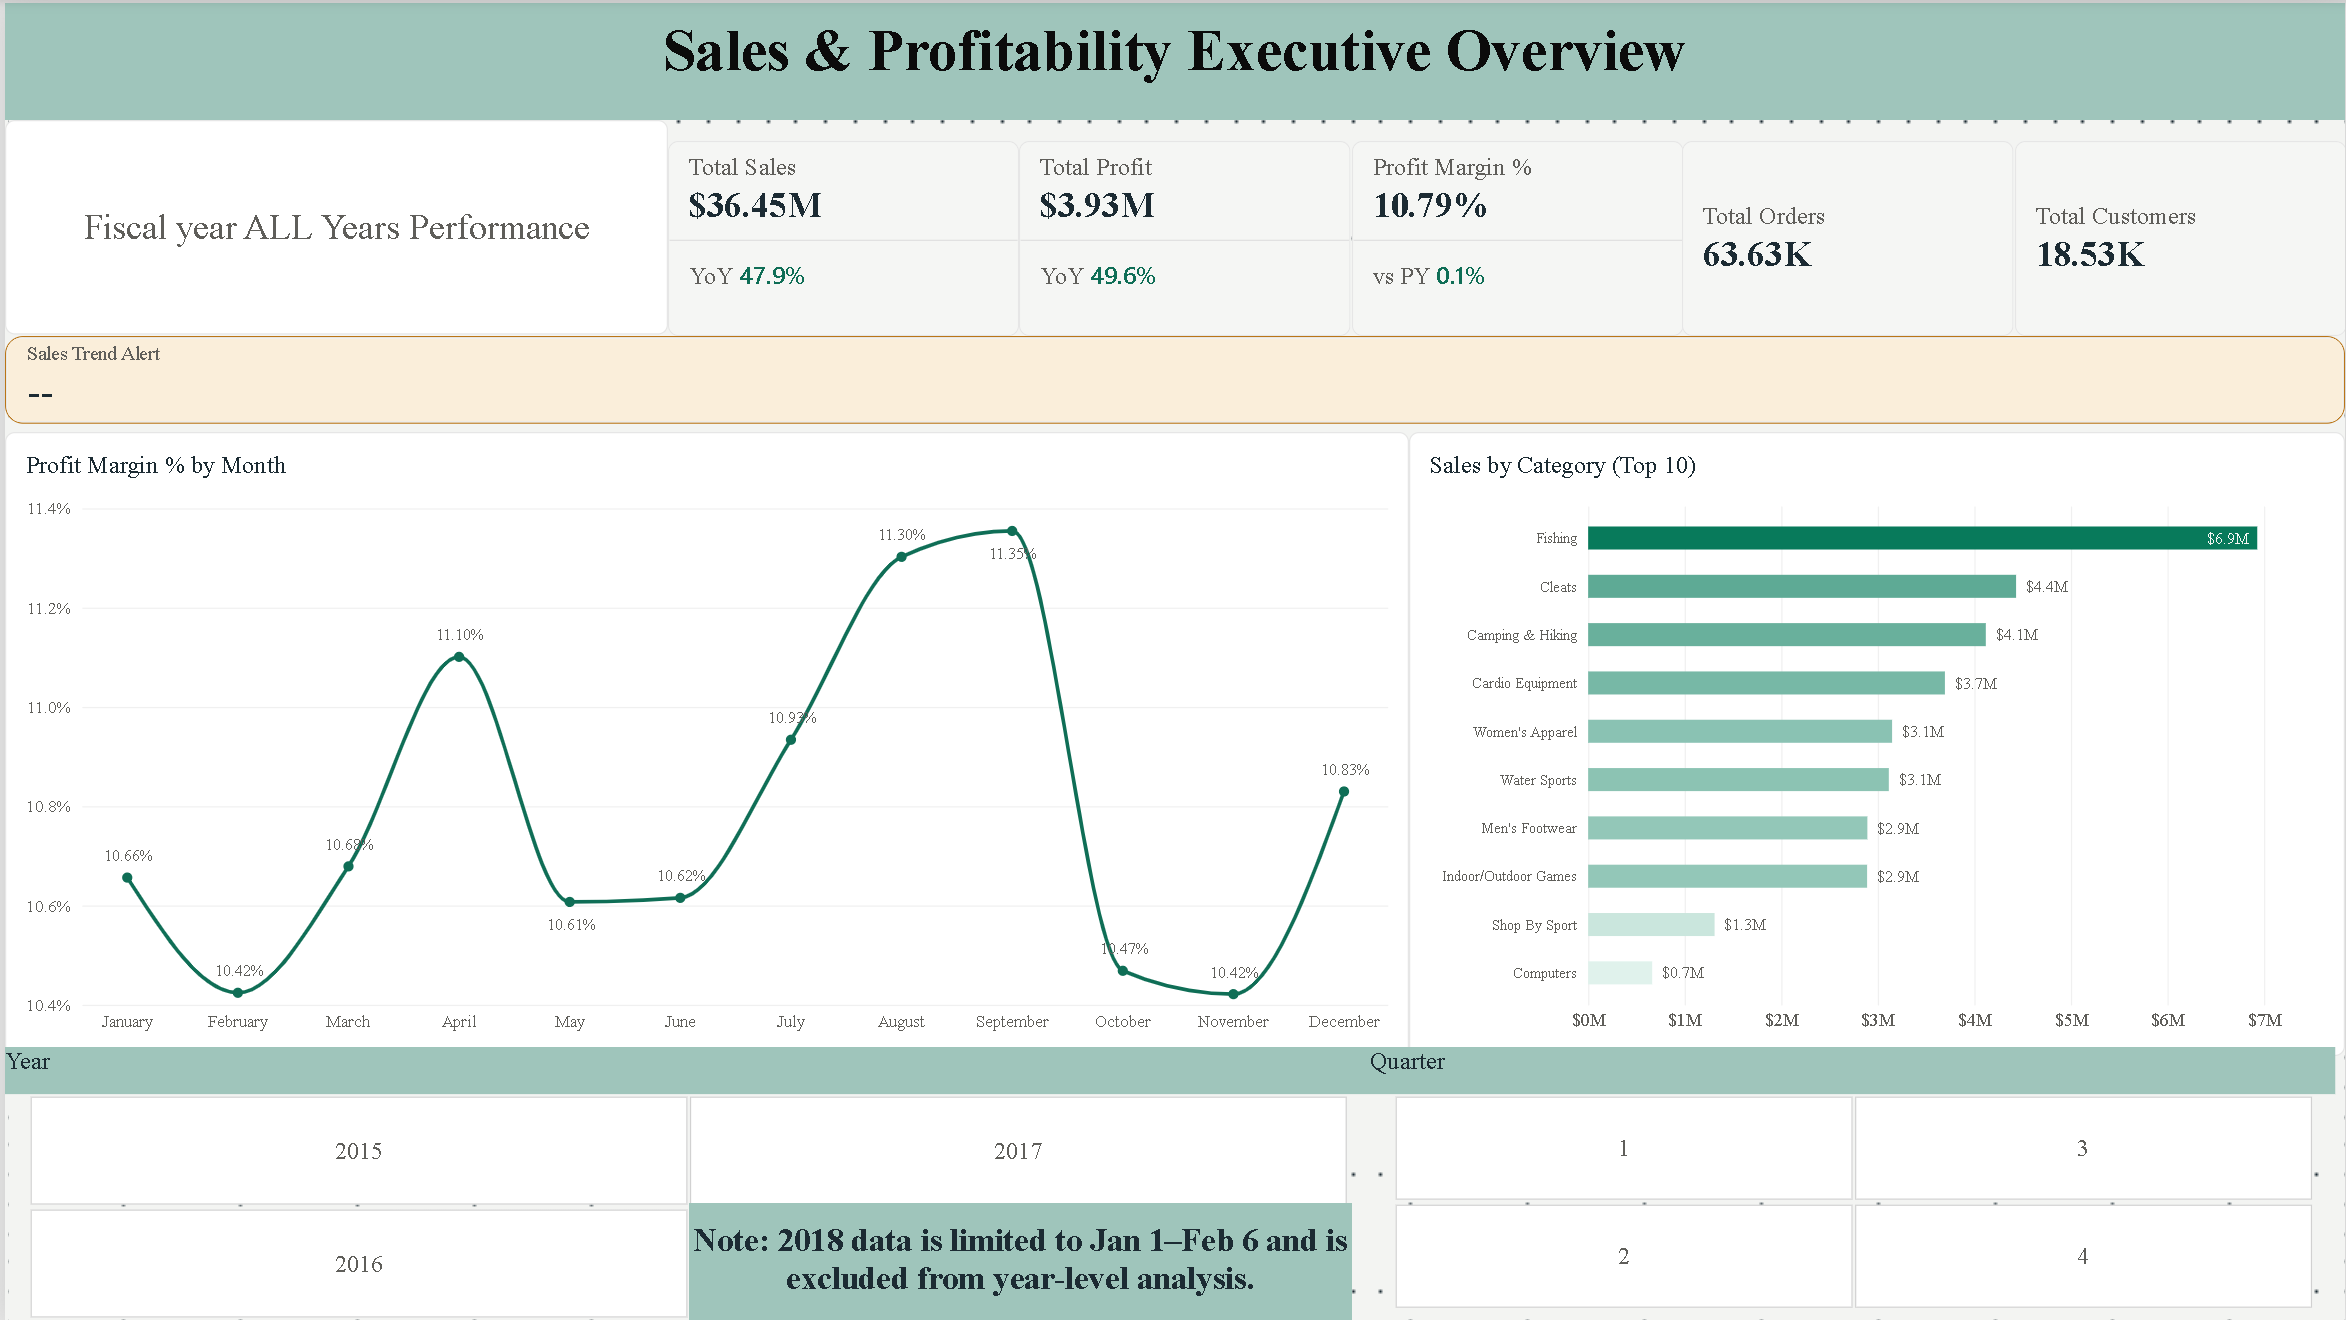

The page's visual inventory and layout, read from the dashboard file:
{"tool":"powerbi","page":{"name":"Executive Overview","canvas":[1920,1080],"ordinal":0},"visuals":[{"type":"cardVisual","fields":{"Data":["_Measures.Total Sales"]},"box":[544,112,288,160],"z":0,"group":"g1"},{"type":"group","id":"g1","title":"Group 2","box":[544,112,832,160],"z":0},{"type":"cardVisual","fields":{"Data":["_Measures.Total Profit"]},"box":[832,112,272,160],"z":1000,"group":"g1"},{"type":"cardVisual","fields":{"Data":["_Measures.Total Orders"]},"box":[1376,112,272,160],"z":1000},{"type":"cardVisual","fields":{"Data":["_Measures.Profit Margin %"]},"box":[1104,112,272,160],"z":2000,"group":"g1"},{"type":"cardVisual","fields":{"Data":["_Measures.Total Customers"]},"box":[1648,112,272,160],"z":2000},{"type":"cardVisual","fields":{"Data":["_Measures.Sales Trend Alert"]},"box":[0,272,1920,72],"z":3000},{"type":"lineChart","title":"Profit Margin % by Month","fields":{"Category":["gold dim_date.month_name"],"Y":["_Measures.Profit Margin %"]},"box":[0,352,1152,512],"z":4000},{"type":"barChart","title":"Sales by Category (Top 10)","fields":{"Category":["gold dim_product.category_name"],"Y":["_Measures.Total Sales"]},"box":[1152,352,768,512],"z":5000},{"type":"slicer","title":"Year","fields":{"Values":["gold dim_date.year"]},"box":[0,856,1120,224],"z":5000,"group":"g2"},{"type":"slicer","title":"Quarter","fields":{"Values":["gold dim_date.quarter"]},"box":[1120,856,792,216],"z":6000},{"type":"textbox","box":[560,984,544,96],"z":6001,"group":"g2"},{"type":"group","id":"g2","title":"Group 1","box":[0,856,1120,224],"z":7000},{"type":"card","fields":{"Values":["_Measures.Page Subtitle"]},"box":[0,96,544,176],"z":8000},{"type":"textbox","box":[0,0,1920,96],"z":9001}]}

Visuals, with their boxes in screenshot pixels (x1, y1, x2, y2), scaled from the page's 1920x1080 canvas onto the 2346x1320 screenshot:
cardVisual - _Measures.Total Sales: [665,137,1017,332]
"Group 2" group: [665,137,1681,332]
cardVisual - _Measures.Total Profit: [1017,137,1349,332]
cardVisual - _Measures.Total Orders: [1681,137,2014,332]
cardVisual - _Measures.Profit Margin %: [1349,137,1681,332]
cardVisual - _Measures.Total Customers: [2014,137,2345,332]
cardVisual - _Measures.Sales Trend Alert: [0,332,2345,420]
"Profit Margin % by Month" lineChart: [0,430,1408,1056]
"Sales by Category (Top 10)" barChart: [1408,430,2345,1056]
"Year" slicer: [0,1046,1368,1319]
"Quarter" slicer: [1368,1046,2336,1310]
textbox: [684,1203,1349,1319]
"Group 1" group: [0,1046,1368,1319]
card - _Measures.Page Subtitle: [0,117,665,332]
textbox: [0,0,2345,117]
